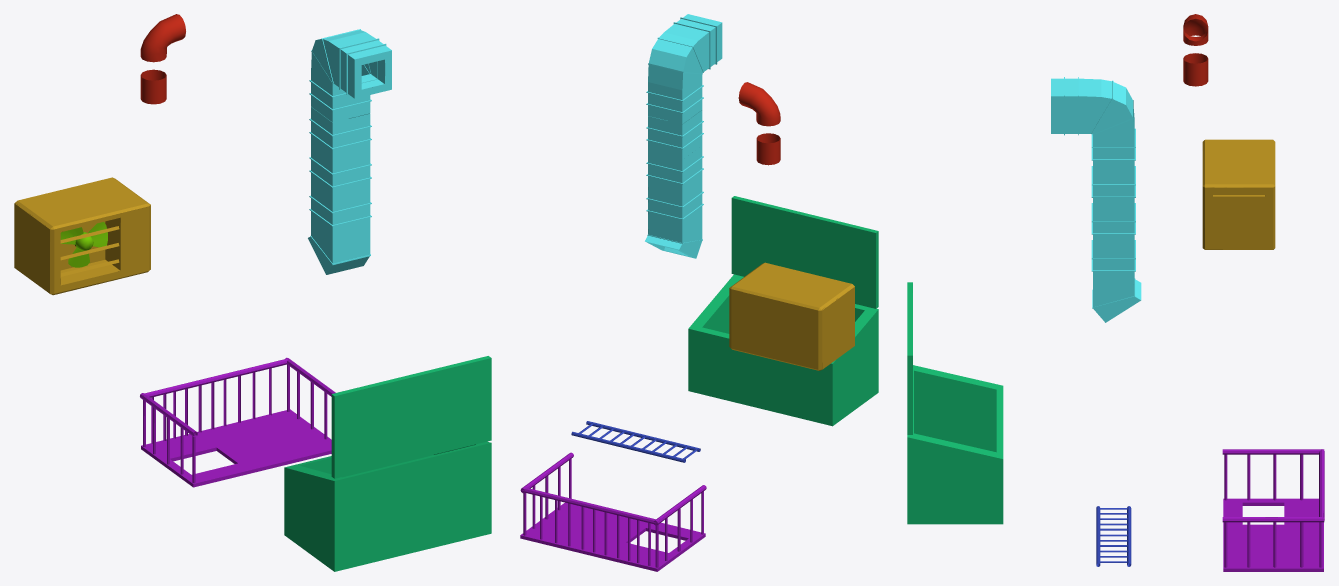
The model's file is Props.fbx.
The picture shows the model from 3 angles, left to right: view 1: azimuth 30°, elevation 25°; view 2: azimuth 150°, elevation 25°; view 3: azimuth 270°, elevation 25°; orthographic projection. The views are drawn at different scales.
Visible parts, largest first — view 1: Garbage Can, AC, Cube.010, Vent Top, Vent, Vent_Bottom, Pipe_Curved, Pipe; view 2: Garbage Can, AC, Cube.010, Vent Top, Vent, Vent_Bottom, Cube.011, Pipe_Curved, Pipe; view 3: Garbage Can, Cube.010, AC, Vent Top, Vent, Vent_Bottom, Cube.011, Pipe, Pipe_Curved.
Part boxes in pixels (x1=…): Garbage Can: x1=284, y1=356, x2=491, y2=571; AC: x1=14, y1=177, x2=150, y2=295; Cube.010: x1=140, y1=357, x2=335, y2=487; Vent Top: x1=309, y1=29, x2=391, y2=122; Vent: x1=309, y1=107, x2=371, y2=199; Vent_Bottom: x1=308, y1=183, x2=371, y2=274; Pipe_Curved: x1=140, y1=14, x2=185, y2=62; Pipe: x1=140, y1=69, x2=166, y2=104; Garbage Can: x1=688, y1=196, x2=878, y2=426; AC: x1=729, y1=262, x2=854, y2=370; Cube.010: x1=520, y1=452, x2=706, y2=571; Vent Top: x1=646, y1=14, x2=722, y2=124; Vent: x1=646, y1=110, x2=703, y2=194; Vent_Bottom: x1=645, y1=181, x2=703, y2=258; Cube.011: x1=571, y1=421, x2=700, y2=462; Pipe_Curved: x1=738, y1=82, x2=780, y2=126; Pipe: x1=756, y1=133, x2=780, y2=165; Garbage Can: x1=907, y1=282, x2=1003, y2=524; Cube.010: x1=1222, y1=449, x2=1324, y2=571; AC: x1=1202, y1=139, x2=1275, y2=249; Vent Top: x1=1051, y1=77, x2=1135, y2=171; Vent: x1=1091, y1=166, x2=1135, y2=245; Vent_Bottom: x1=1091, y1=240, x2=1141, y2=322; Cube.011: x1=1096, y1=506, x2=1131, y2=566; Pipe: x1=1183, y1=53, x2=1208, y2=86; Pipe_Curved: x1=1183, y1=14, x2=1208, y2=45.
Bounding box in the file's own units: 3059 × 4129 × 3323.
